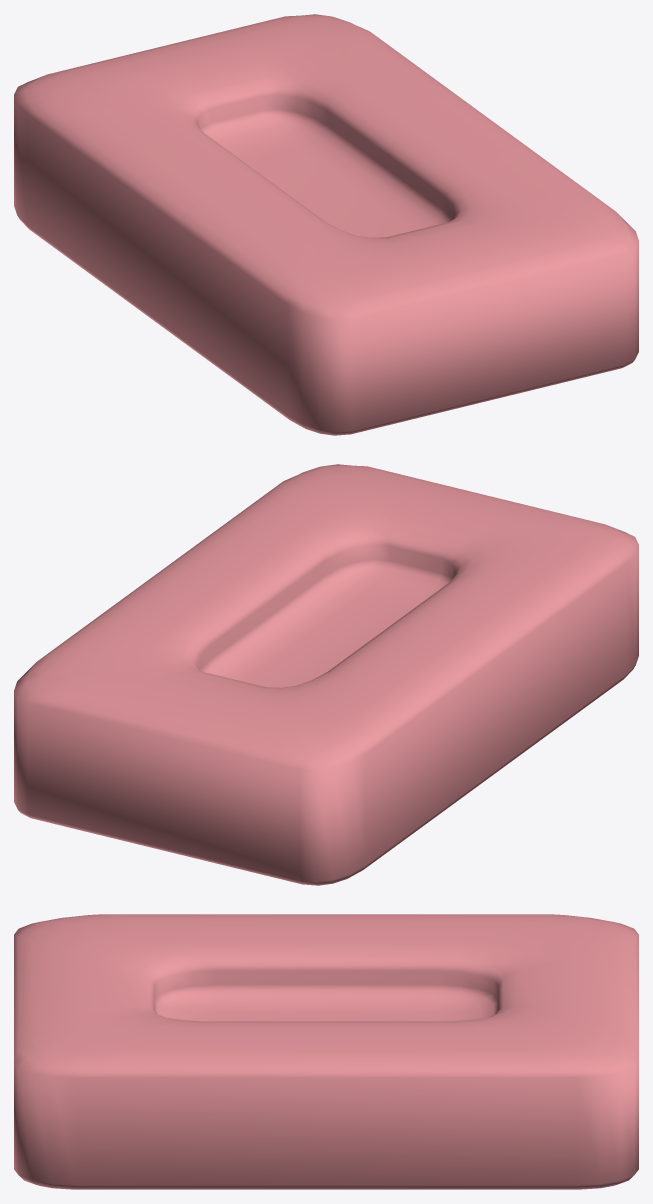
File: POWERUP_SOAP.fbx
The picture shows the model from 3 angles, top to bottom: view 1: azimuth 30°, elevation 25°; view 2: azimuth 150°, elevation 25°; view 3: azimuth 270°, elevation 25°; orthographic projection. The views are drawn at different scales.
Visible parts, largest first — view 1: Cube; view 2: Cube; view 3: Cube.
Part boxes in pixels (x1,y1,x2,y2): Cube: (14,14,638,435); Cube: (14,464,638,885); Cube: (14,914,638,1189).
Bounding box in the file's own units: 200 × 78.33 × 332.
